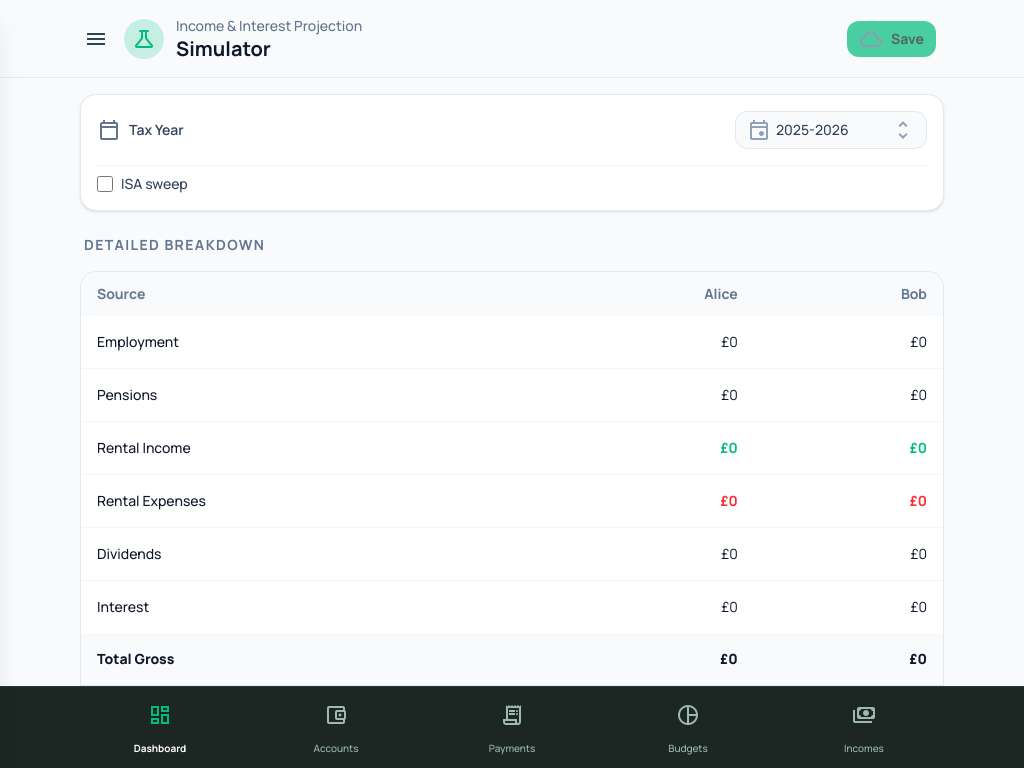
Test: SimulatorPage › renders ISA sweep checkbox under tax year dropdown, handles checking and resets state on Reset click
Expected: the button "Reset" is not shown
# Check ISA sweep checkbox
Click the checkbox labelled "ISA sweep" at (105, 184), box [97,176,113,192]
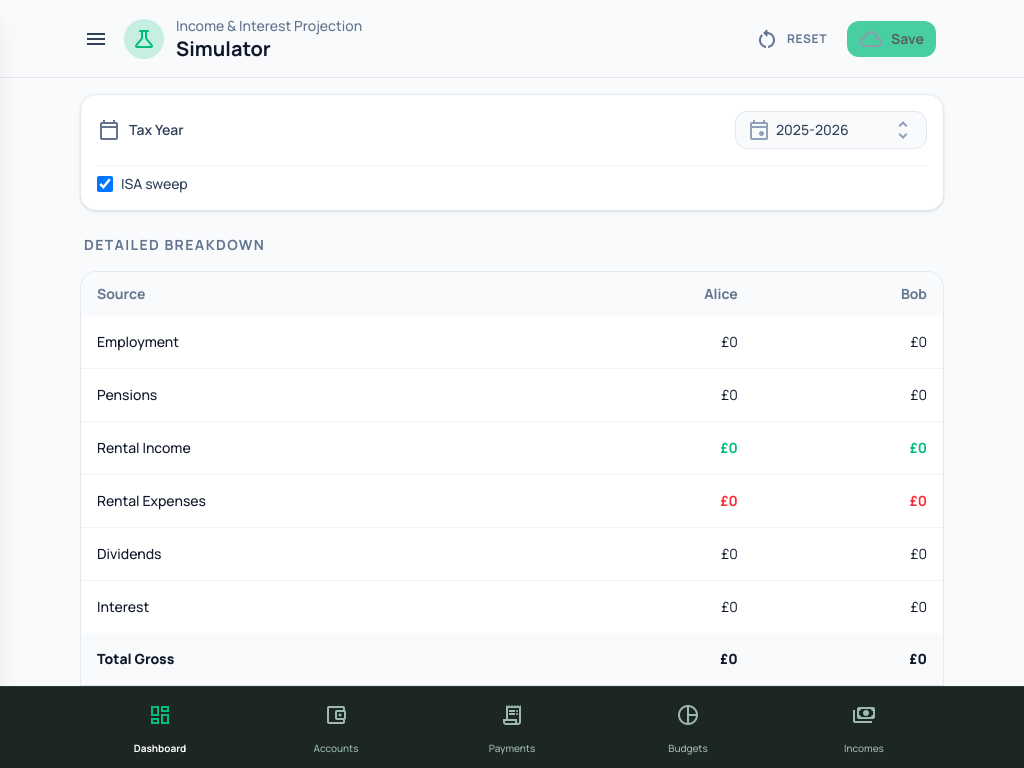
Now the checkbox labelled "ISA sweep" is checked, box [97,176,113,192]
Now the button "Reset" is shown
# Click Reset
Click the button "Reset" at (791, 38), box [743,20,839,56]
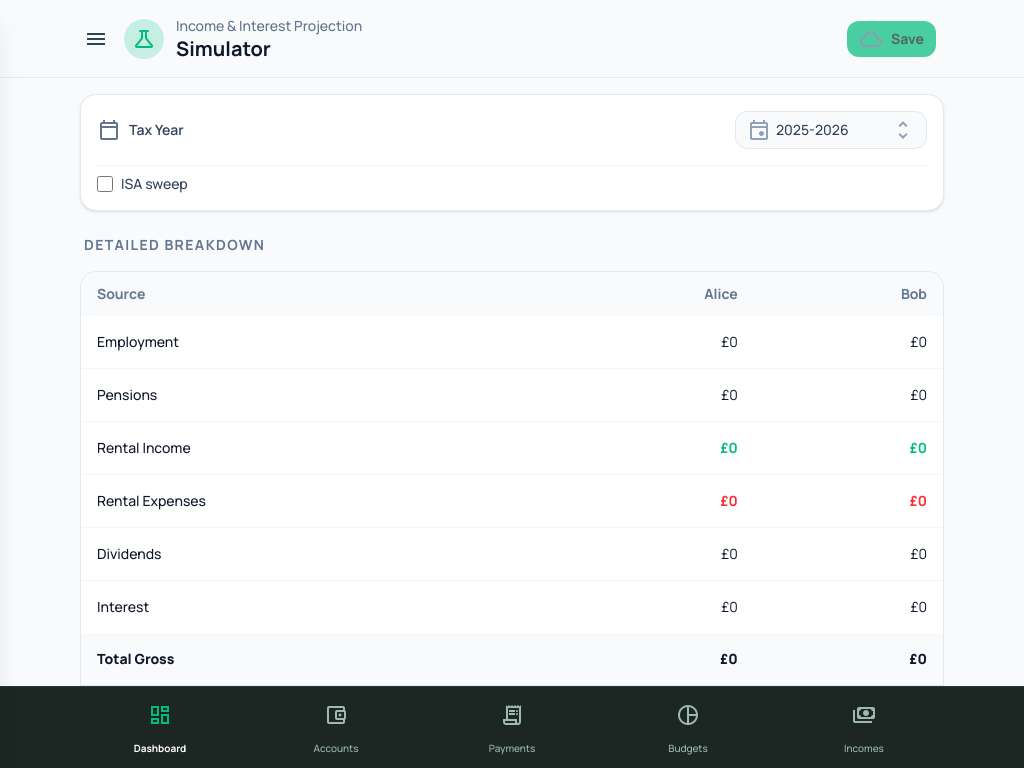
Now the checkbox labelled "ISA sweep" is not checked, box [97,176,113,192]
Now the button "Reset" is gone
